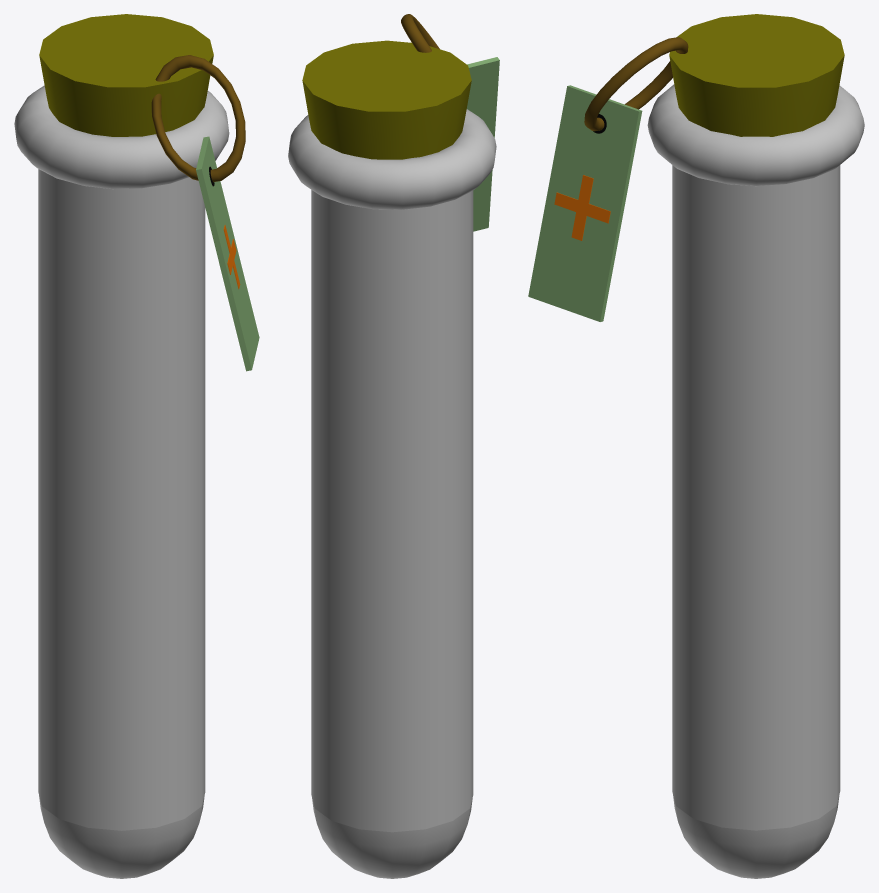
The model's file is RefreshPotion.fbx.
3 renders of one model, left to right at view 1: azimuth 30°, elevation 25°; view 2: azimuth 150°, elevation 25°; view 3: azimuth 270°, elevation 25°, orthographic. The views are drawn at different scales.
Visible parts, largest first — view 1: pTorus22; view 2: pTorus22; view 3: pTorus22.
Part boxes in pixels (left/top/right/bottom): pTorus22: left=14, top=14, right=259, bottom=878; pTorus22: left=288, top=14, right=499, bottom=878; pTorus22: left=528, top=14, right=864, bottom=878.
Bounding box in the file's own units: 1.36 × 5.84 × 2.11.
